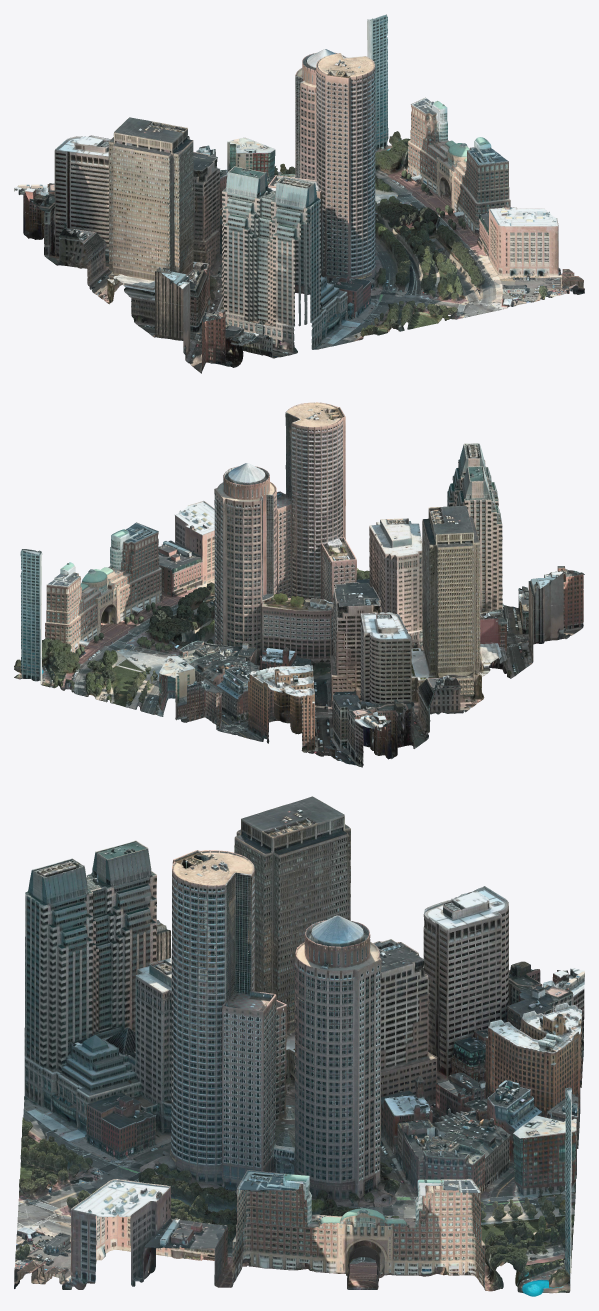
The picture shows the model from 3 angles, top to bottom: view 1: azimuth 30°, elevation 25°; view 2: azimuth 150°, elevation 25°; view 3: azimuth 270°, elevation 25°; orthographic projection. The views are drawn at different scales.
Parts seen in each view (by area): view 1: boston_usa_sample_5, boston_usa_sample_4, boston_usa_sample_3, boston_usa_sample_1, boston_usa_sample_2, boston_usa_sample_6; view 2: boston_usa_sample_2, boston_usa_sample_1, boston_usa_sample_4, boston_usa_sample_3, boston_usa_sample_5; view 3: boston_usa_sample_5, boston_usa_sample_1, boston_usa_sample_3, boston_usa_sample_4, boston_usa_sample_2, boston_usa_sample_6.
Boxes of the visible parts, box(x1,y1,x2,y2) form: boston_usa_sample_5: box(169, 74, 562, 373); boston_usa_sample_4: box(134, 53, 510, 341); boston_usa_sample_3: box(100, 69, 498, 322); boston_usa_sample_1: box(14, 14, 429, 268); boston_usa_sample_2: box(65, 49, 461, 297); boston_usa_sample_6: box(380, 269, 584, 326); boston_usa_sample_2: box(51, 463, 473, 728); boston_usa_sample_1: box(14, 549, 436, 767); boston_usa_sample_4: box(126, 402, 547, 678); boston_usa_sample_3: box(88, 466, 510, 705); boston_usa_sample_5: box(163, 403, 584, 645); boston_usa_sample_5: box(20, 841, 173, 1289); boston_usa_sample_1: box(428, 886, 584, 1296); boston_usa_sample_3: box(234, 796, 369, 1289); boston_usa_sample_4: box(132, 840, 273, 1287); boston_usa_sample_2: box(321, 807, 477, 1289); boston_usa_sample_6: box(14, 1136, 71, 1289).
Bounding box in the file's own units: 3.48 × 1.93 × 3.18.
6 materials, 6 textured.
